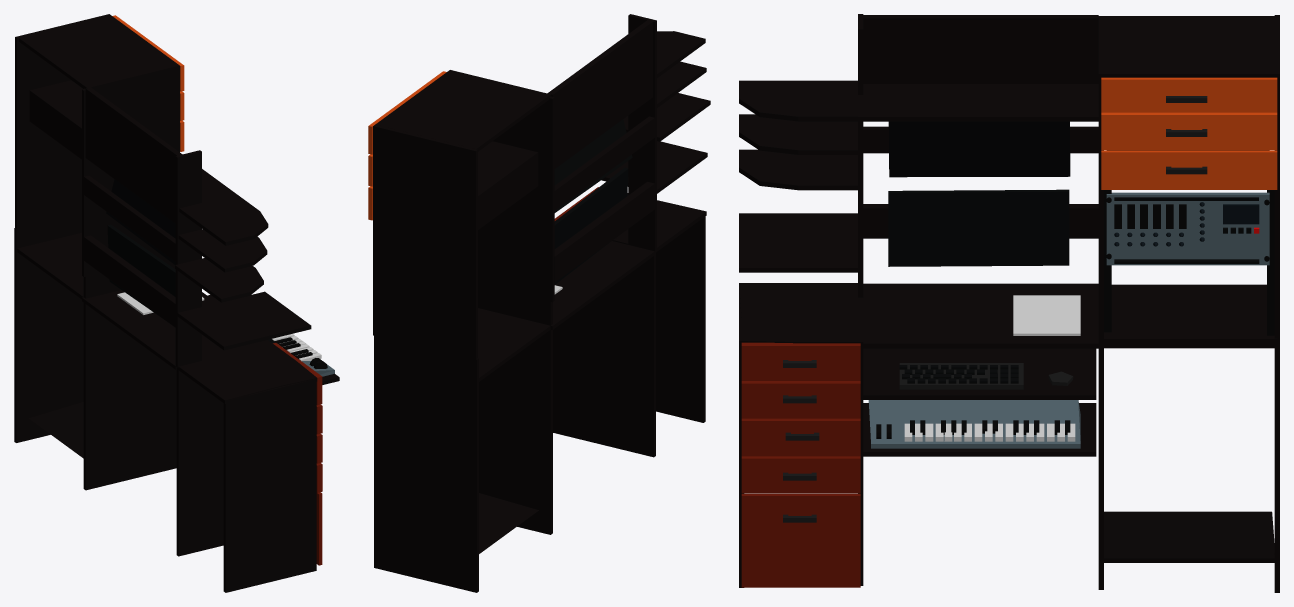
Rendered from Desk.fbx.
3 views of the same model, side by side, from view 1: azimuth 30°, elevation 25°; view 2: azimuth 150°, elevation 25°; view 3: azimuth 270°, elevation 25° (orthographic). The views are drawn at different scales.
Parts seen in each view (by area): view 1: 6MvG-7E3nOv_0_0_0, 6MvG-7E3nOv_1_0_0; view 2: 6MvG-7E3nOv_0_0_0, 6MvG-7E3nOv_1_0_0; view 3: 6MvG-7E3nOv_0_0_0, 6MvG-7E3nOv_1_0_0.
Part boxes in pixels (x1,y1,x2,y2): 6MvG-7E3nOv_0_0_0: (14,14,339,592); 6MvG-7E3nOv_1_0_0: (29,402,83,458); 6MvG-7E3nOv_0_0_0: (368,14,710,592); 6MvG-7E3nOv_1_0_0: (479,493,538,553); 6MvG-7E3nOv_0_0_0: (739,14,1279,592); 6MvG-7E3nOv_1_0_0: (783,192,1274,562).
Size of the model in its own units: 0.0479 by 0.1111 by 0.1048.
